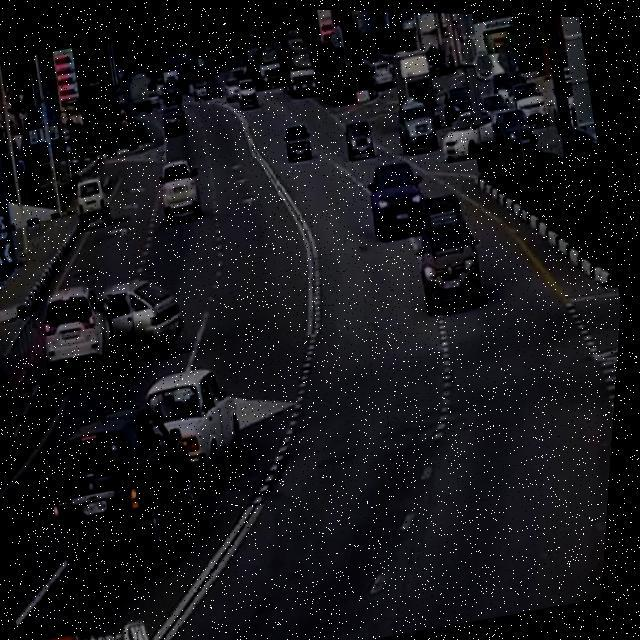Car Accident Detector - v4 Generation1 Exported: (28, 353, 278, 590)
